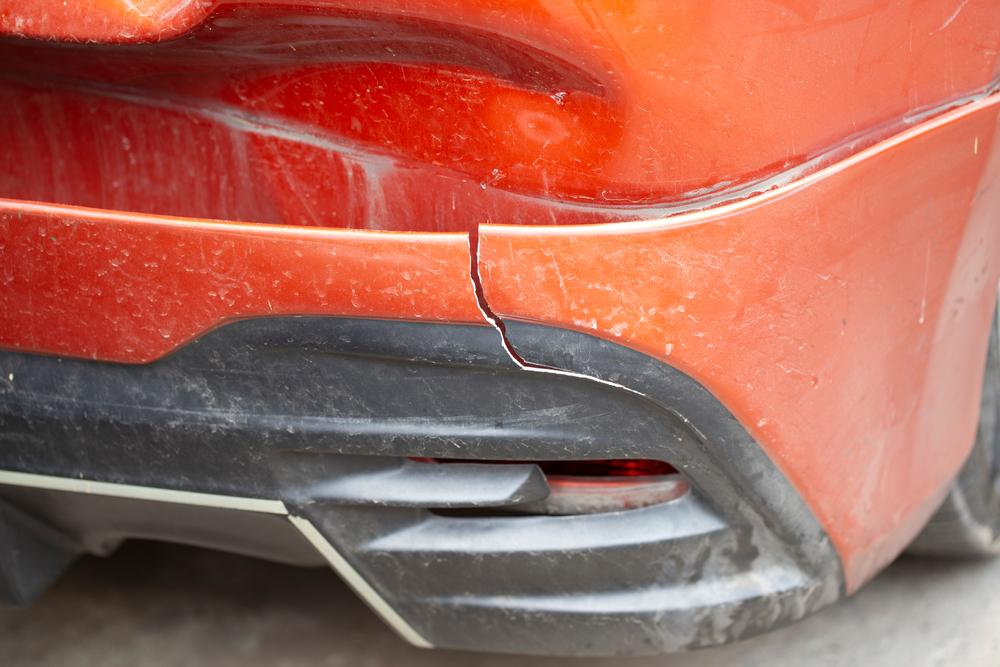crack: (468, 224, 649, 397)
